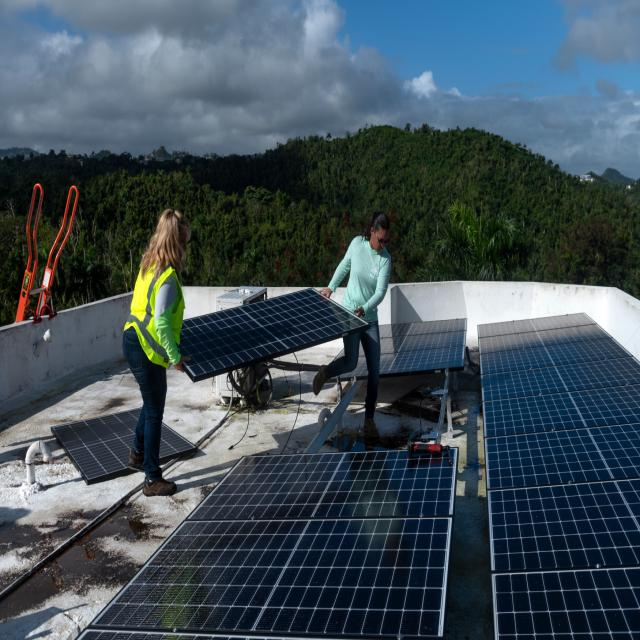clean-solar-panel: (86, 450, 458, 637), (478, 314, 640, 639), (180, 288, 369, 381), (380, 318, 468, 378), (341, 355, 368, 380)
